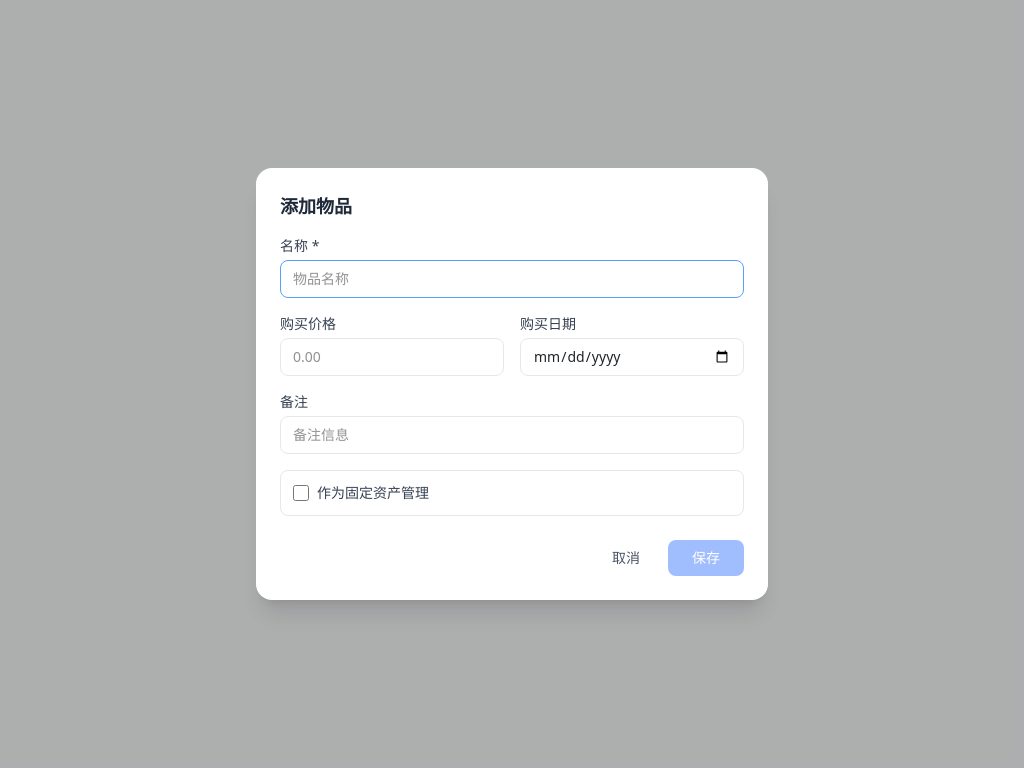
ItemFormModal › shows fixed asset fields when toggled
Expected: the text "使用年限" is not shown
Click the text "作为固定资产管理".
click(373, 493)  # box top-left (317, 483), bottom-right (429, 503)
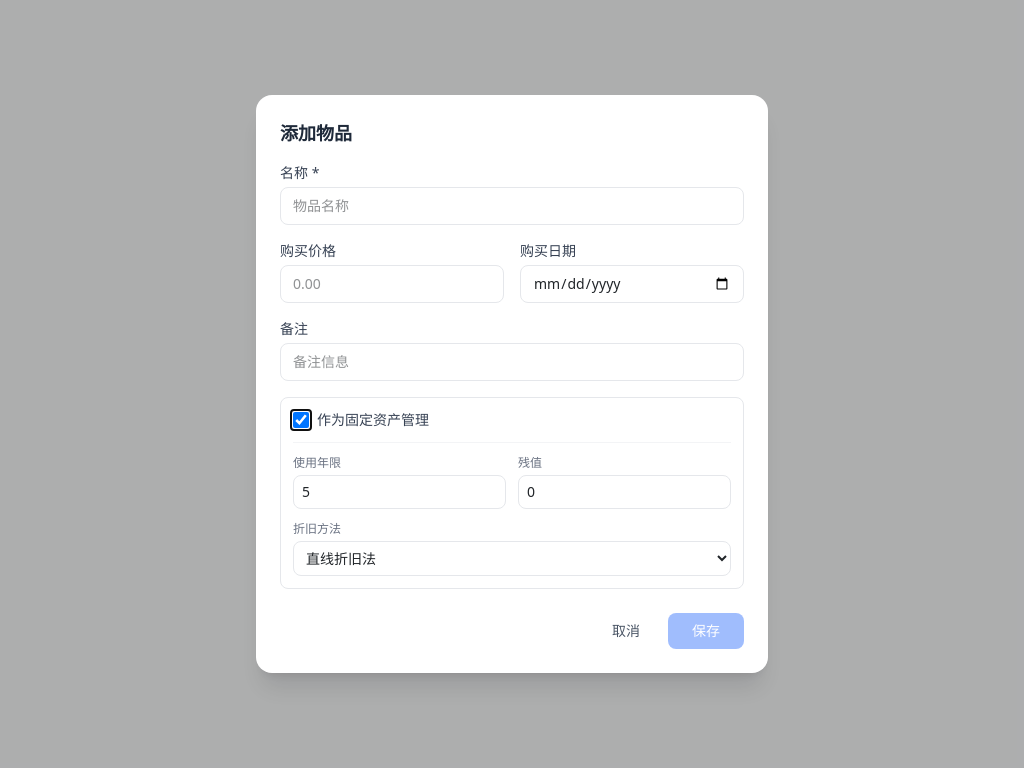
Now the text "使用年限" is shown, box top-left (293, 454), bottom-right (341, 471)
Now the text "残值" is shown, box top-left (518, 454), bottom-right (542, 471)
Now the text "折旧方法" is shown, box top-left (293, 520), bottom-right (341, 537)
